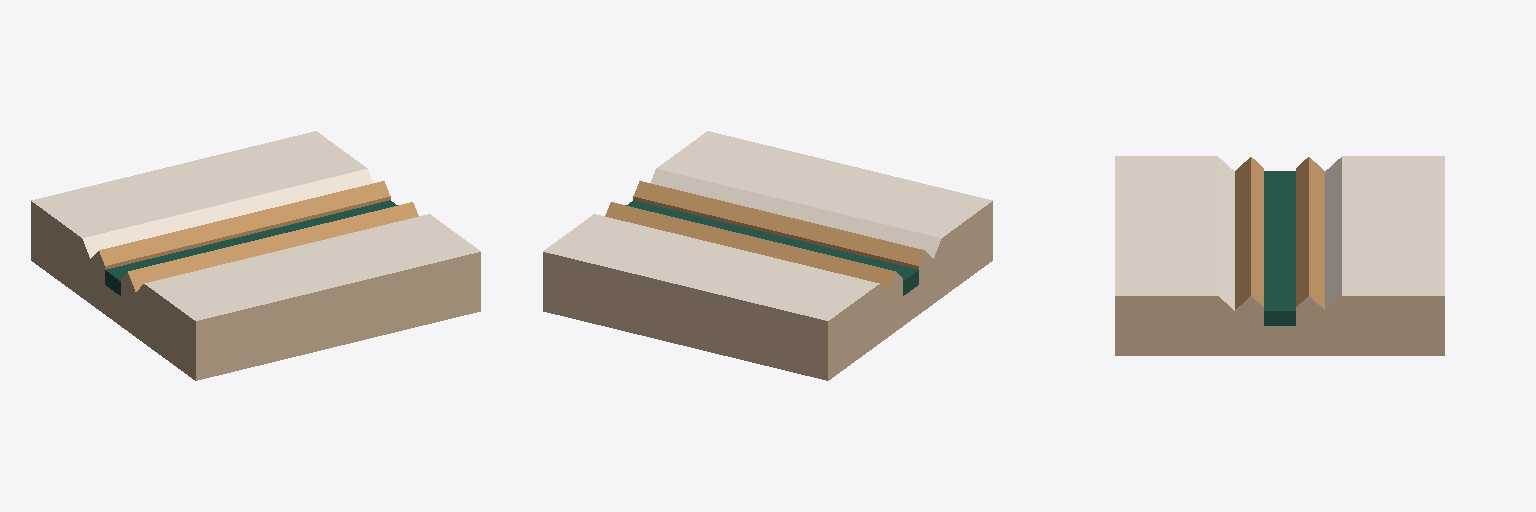
The model's file is Puzzle_Floor_Conduit_Standard_Straight.obj.
3 views of the same model, side by side, from view 1: azimuth 30°, elevation 25°; view 2: azimuth 150°, elevation 25°; view 3: azimuth 270°, elevation 25° (orthographic).
Visible parts, largest first — view 1: object2, object1; view 2: object2, object1; view 3: object2, object1.
Part boxes in pixels (bbox=[...]): object2: bbox=[31, 131, 480, 380]; object1: bbox=[105, 200, 397, 295]; object2: bbox=[543, 131, 992, 380]; object1: bbox=[626, 200, 918, 295]; object2: bbox=[1115, 156, 1444, 355]; object1: bbox=[1264, 171, 1295, 325].
Size of the model in its own units: 1 by 0.2 by 1.